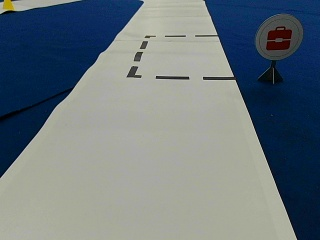company: (257, 16, 304, 59)
